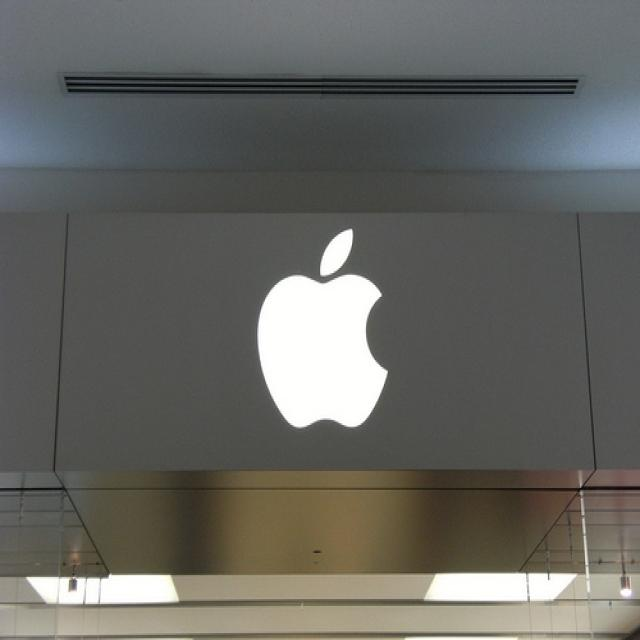apple: (251, 223, 398, 441)
